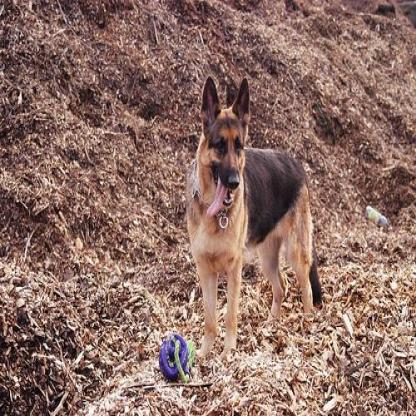German_shepherd: (186, 75, 322, 351)
